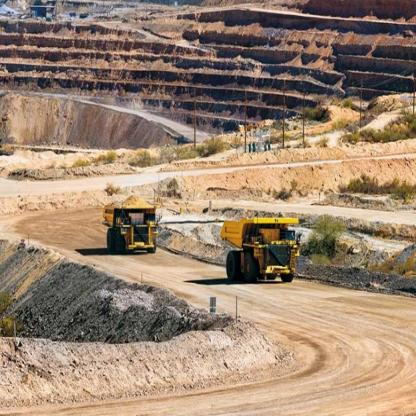dump_truck: (218, 211, 304, 289), (99, 189, 158, 258)
